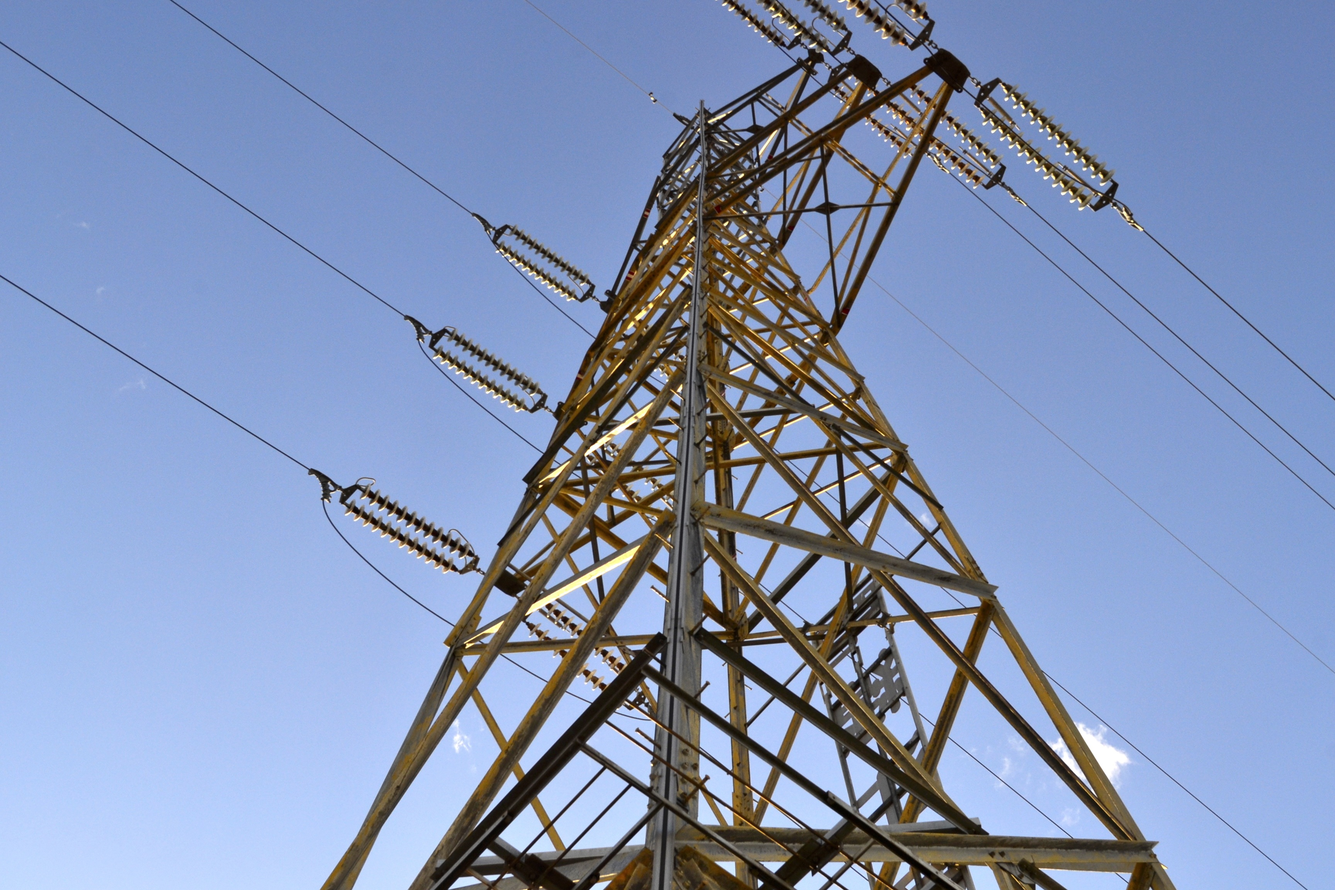insulator: (984, 72, 1129, 225), (888, 76, 1031, 214), (326, 468, 481, 579), (412, 313, 554, 416), (475, 208, 601, 310), (715, 0, 862, 47), (845, 2, 949, 54)
